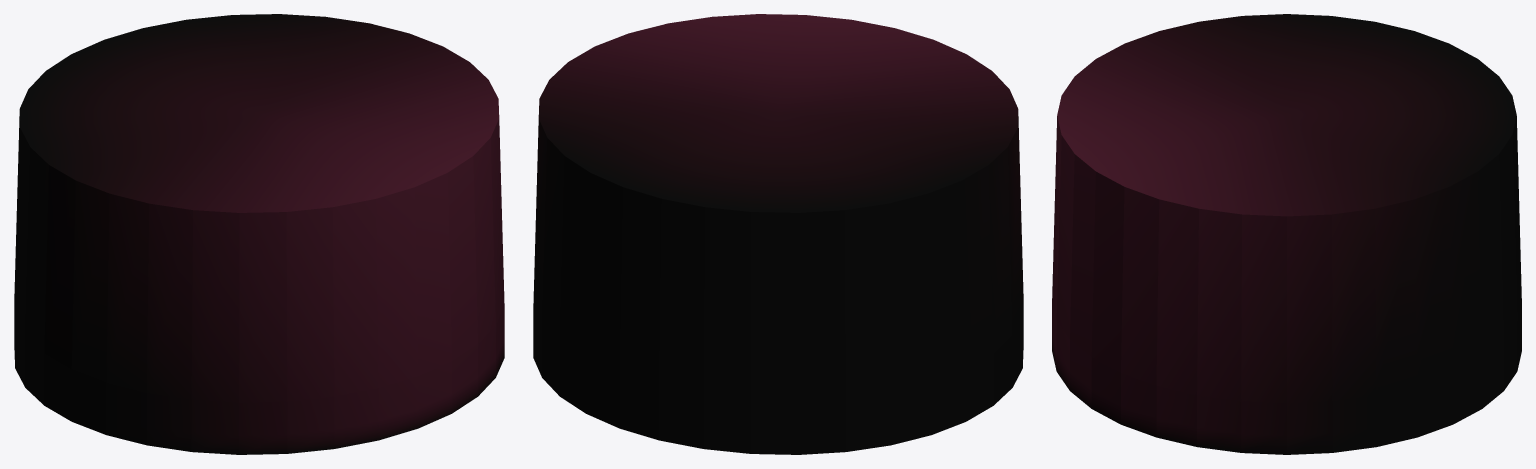
Rendered from dome.dae.
3 renders of one model, left to right at view 1: azimuth 30°, elevation 25°; view 2: azimuth 150°, elevation 25°; view 3: azimuth 270°, elevation 25°, orthographic.
Visible parts, largest first — view 1: Cylinder_029; view 2: Cylinder_029; view 3: Cylinder_029.
Part boxes in pixels (<box>): Cylinder_029: <box>14,14,504,454</box>; Cylinder_029: <box>533,14,1023,454</box>; Cylinder_029: <box>1052,14,1521,454</box>.
Size of the model in its own units: 0.5705 by 0.5474 by 0.3039.
